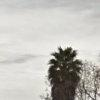Palm tree: (39, 31, 88, 100)
